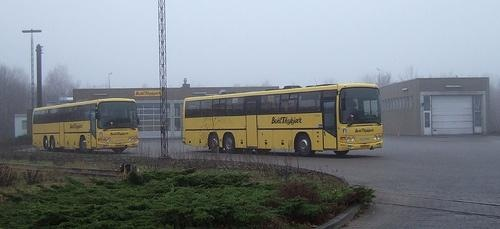bus: (183, 83, 385, 157), (32, 97, 141, 154)
